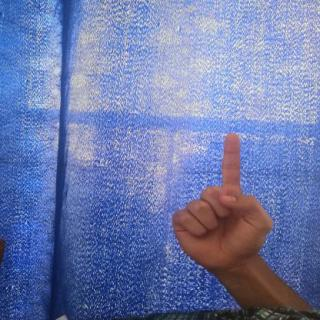BAA: (163, 128, 284, 278)
